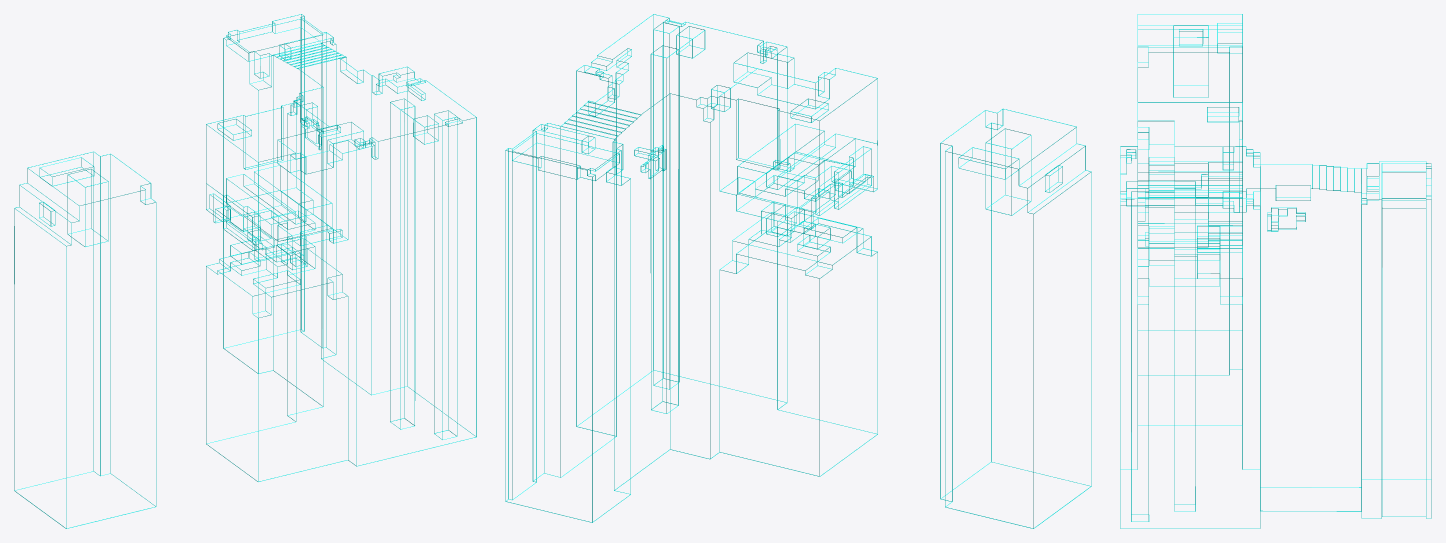
Rendered from Outlines.fbx.
The picture shows the model from 3 angles, left to right: view 1: azimuth 30°, elevation 25°; view 2: azimuth 150°, elevation 25°; view 3: azimuth 270°, elevation 25°; orthographic projection. The views are drawn at different scales.
Parts seen in each view (by area): view 1: Outlines; view 2: Outlines; view 3: Outlines.
Boxes of the visible parts, bbox=[...] form: Outlines: bbox=[14, 14, 476, 528]; Outlines: bbox=[505, 14, 1091, 528]; Outlines: bbox=[1120, 14, 1431, 528].
Size of the model in its own units: 13411 by 10212 by 8910.
